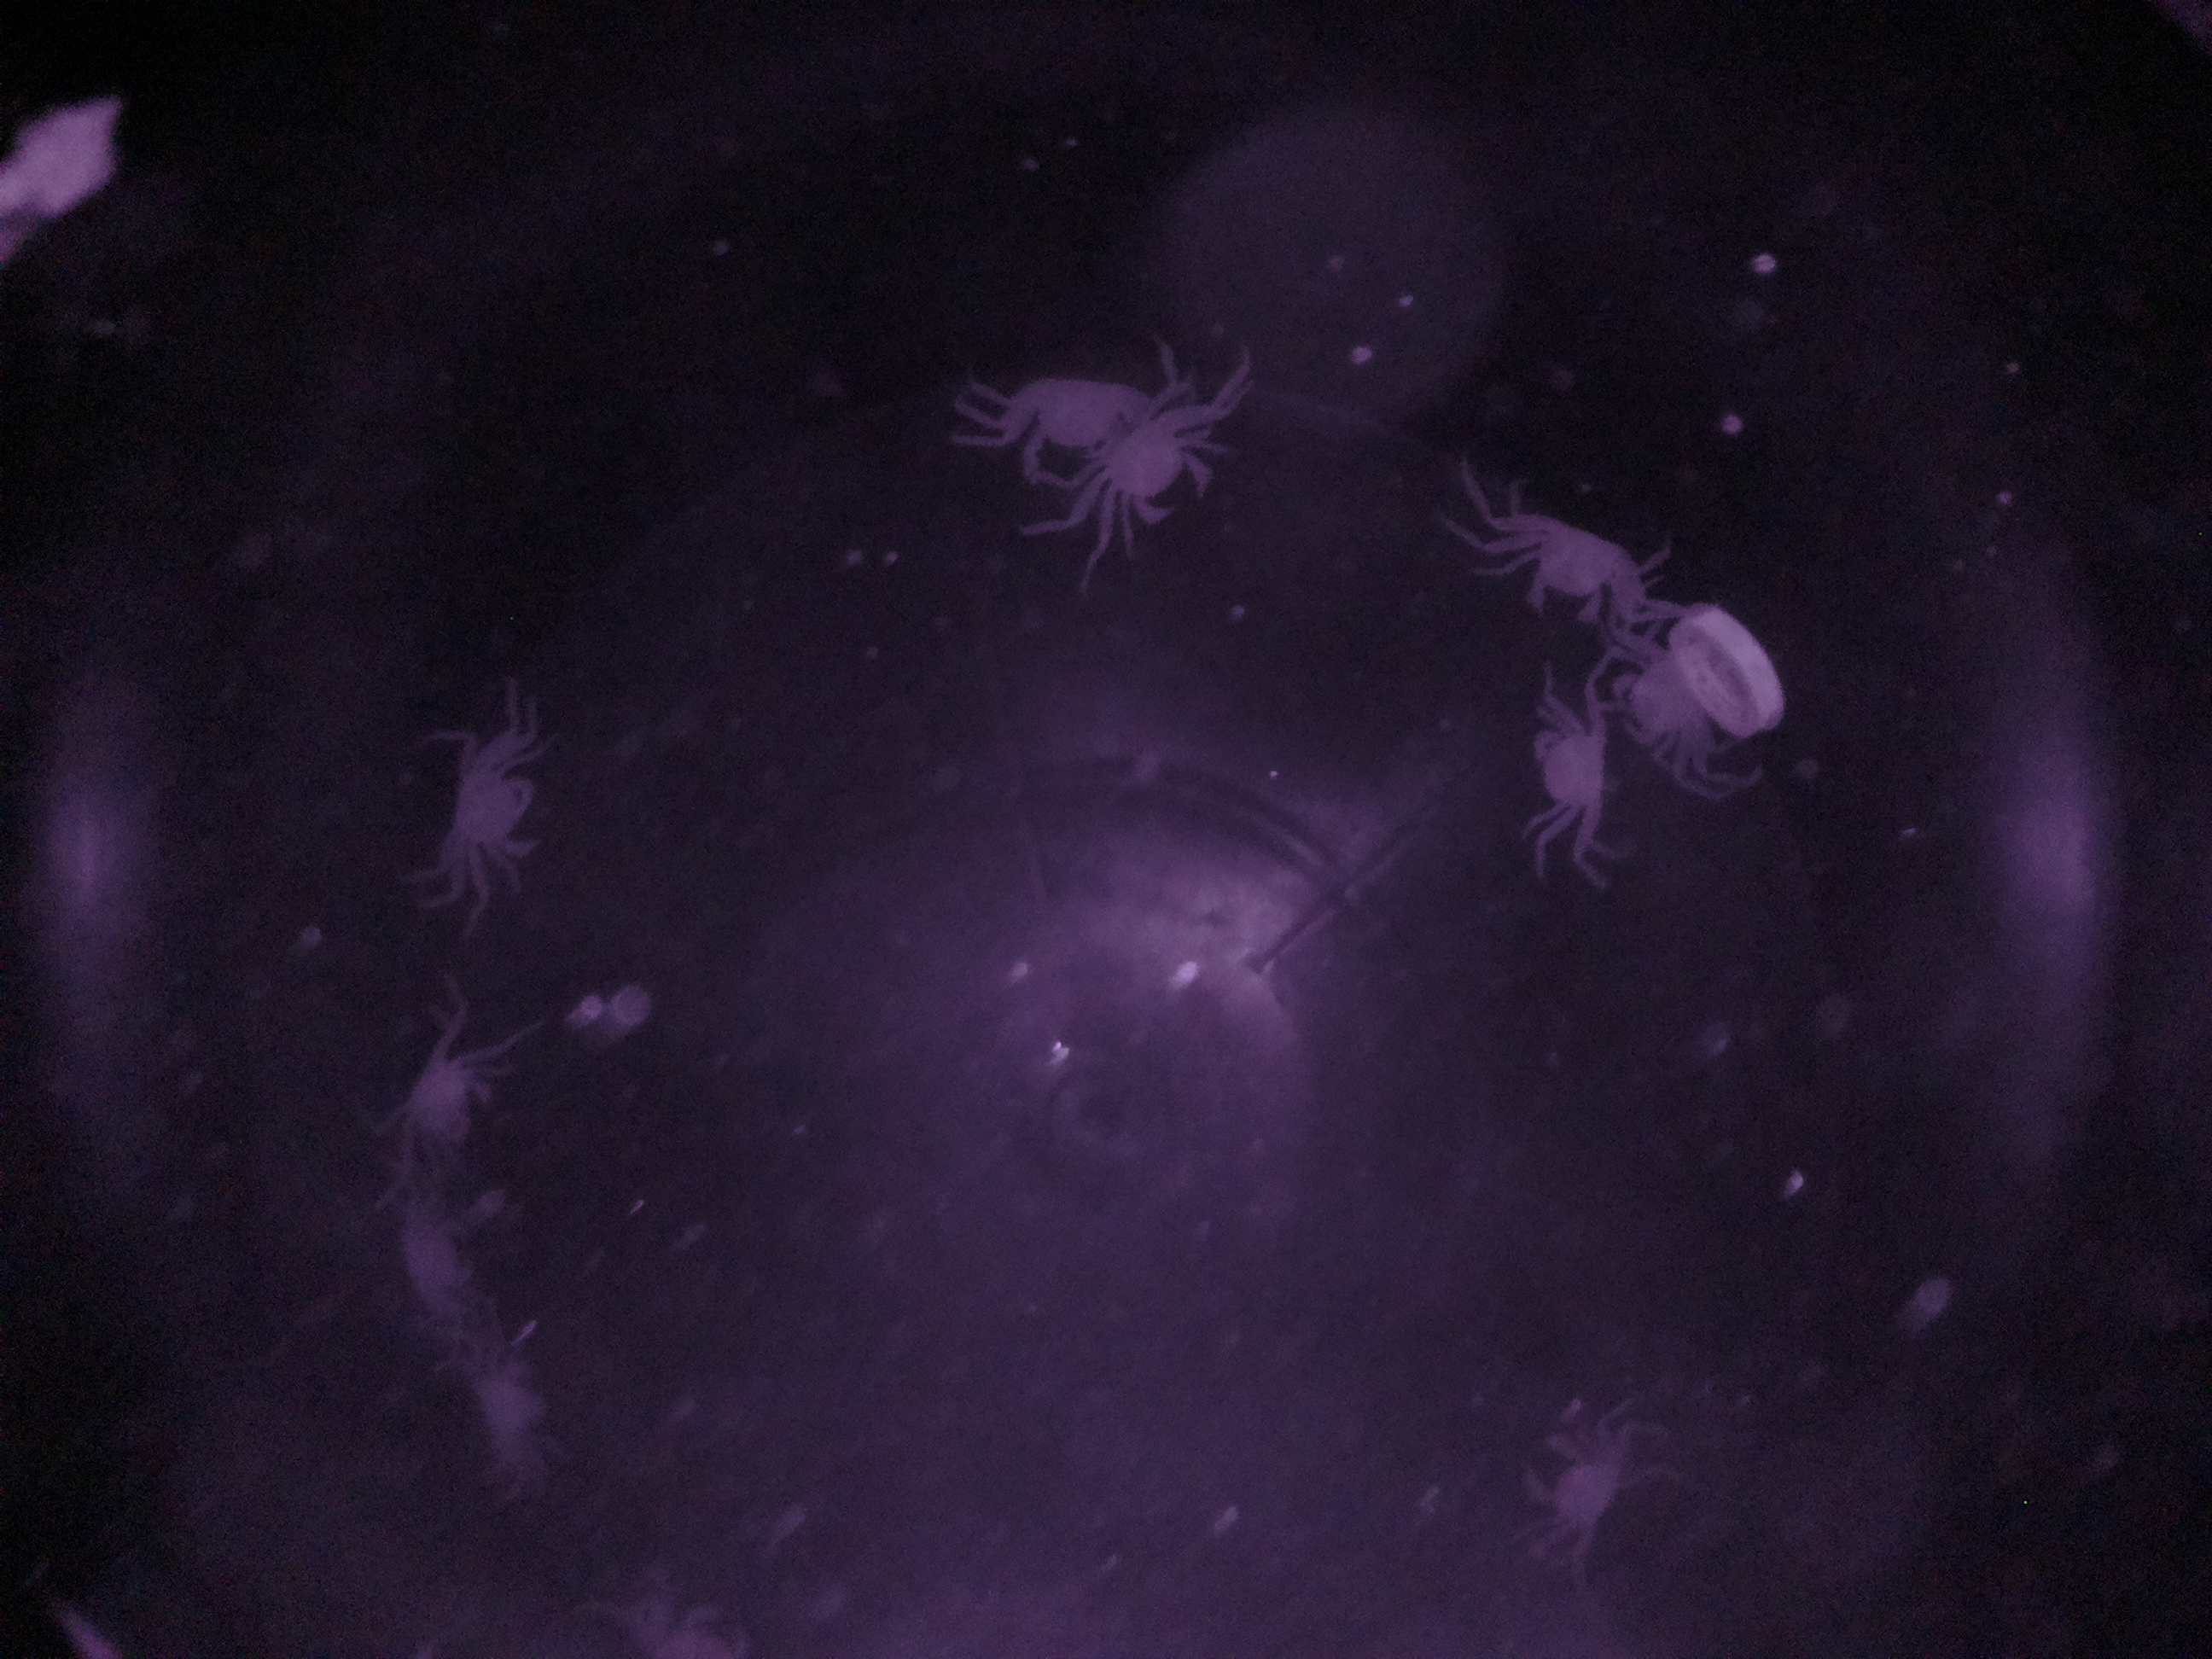Crab: (1468, 488, 1679, 643), (430, 697, 570, 896), (1494, 676, 1625, 856)
